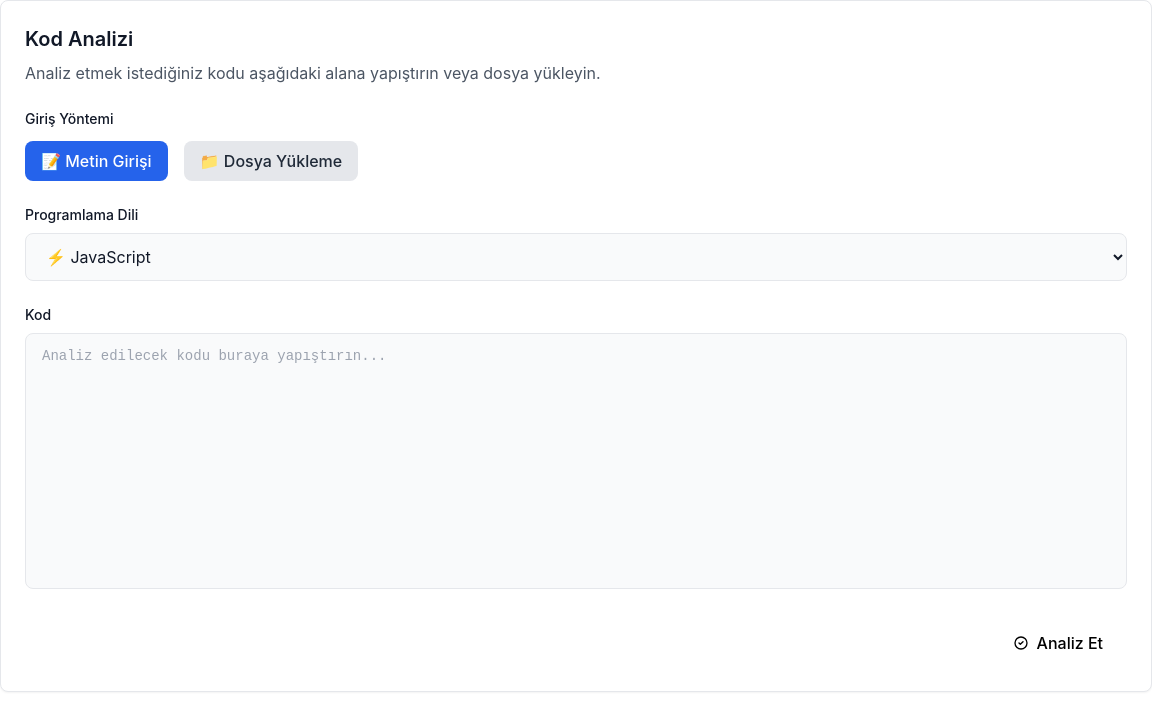
CodeAnalyzer Component › enables analyze button when code is entered
Step 1. Type "console.log(\"test\");" into the text box with placeholder "Analiz edilecek kodu buraya yapıştırın..." → [576, 461], box [25, 333, 1127, 589]
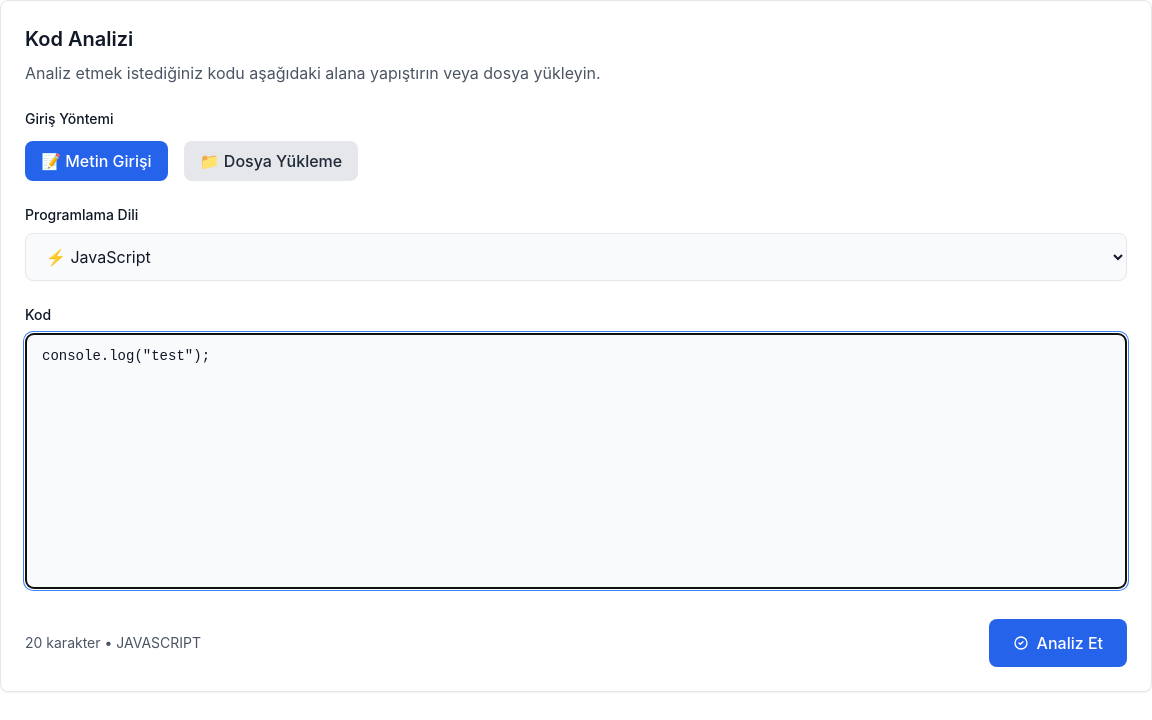
expect the button "Analiz Et" is enabled: met, box [989, 619, 1127, 667]
